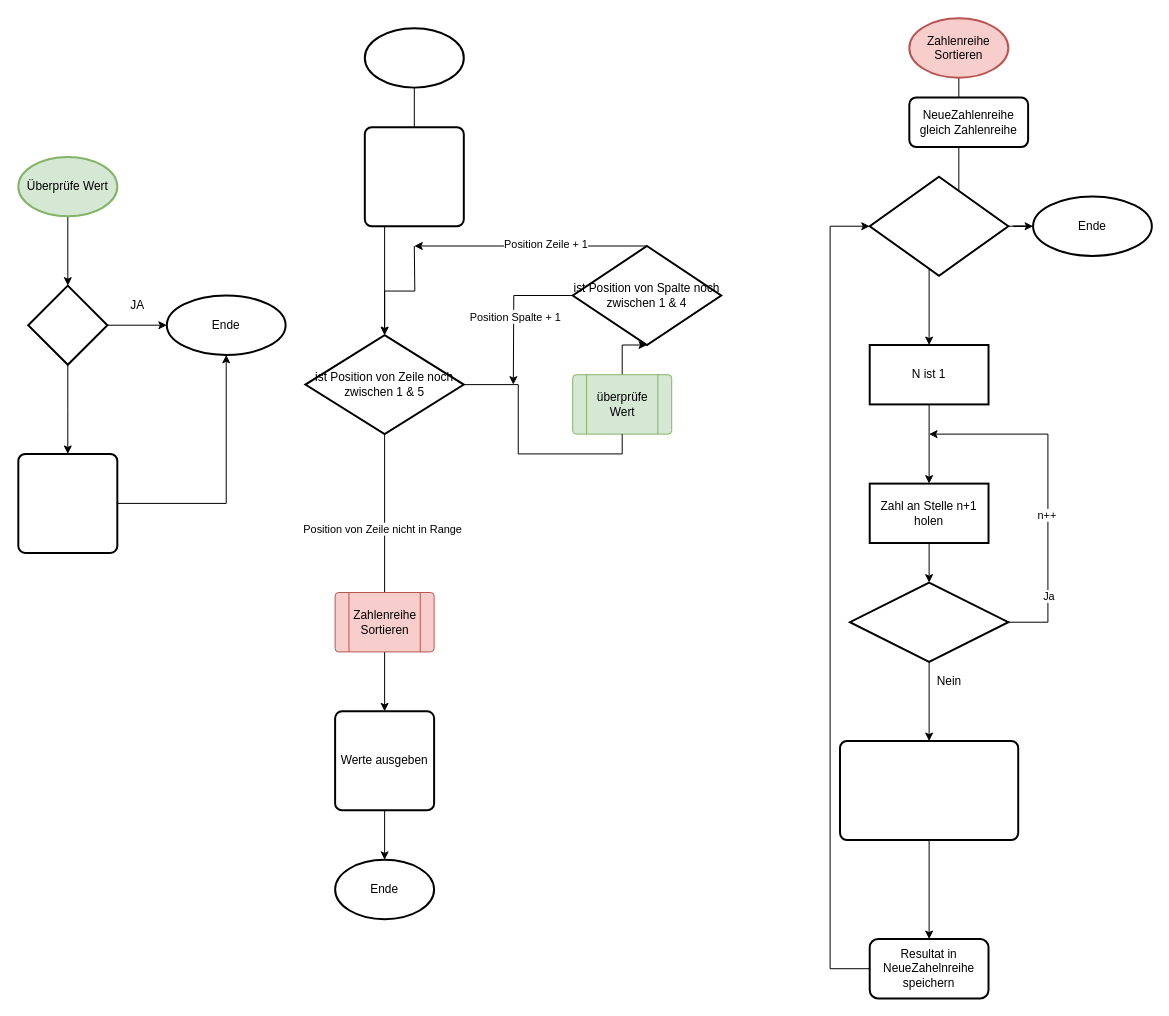
This 1169x1016 diagram has some shape labels left out. The centre of each missing label's shape, as x and y in pixels:
"Anzahl Zahlen in Zahlenreihe" belongs at pixel 938 225.
"Ist n+1 grösser als n?" belongs at pixel 928 621.
"Ist Wert = 0?" belongs at pixel 67 324.
"n+1 ist gleich n n ist gleich n+1" belongs at pixel 929 790.
"Start" belongs at pixel 413 57.
"Wert in Werte abspeichern" belongs at pixel 67 502.
"Werte definieren" belongs at pixel 413 176.
